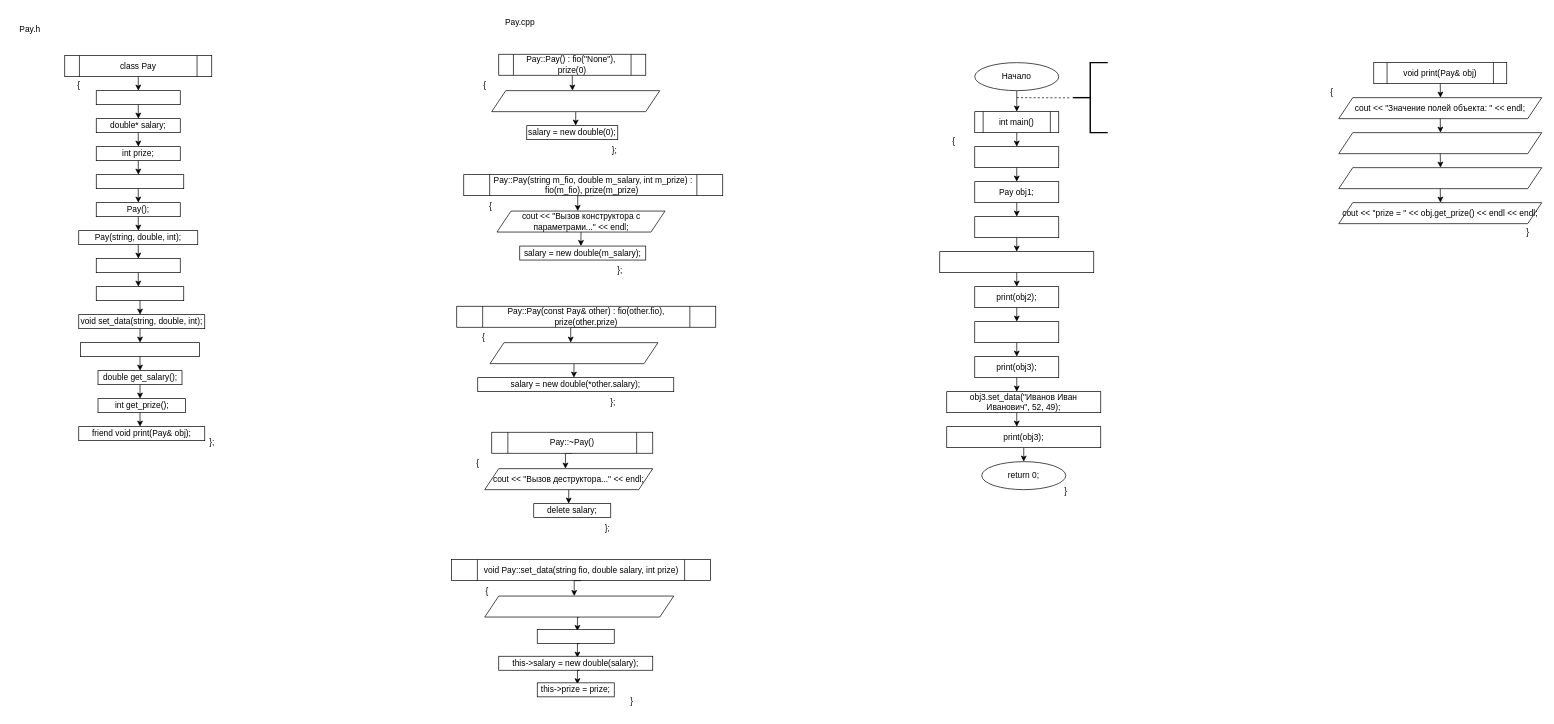
The diagram is 1554 pixels wide and 724 high, and some of its shapes have lost their labels. The box of each missing label's shape, as (x1, y1, x2, y2) in pixels:
#include "Pay.h" using namespace std;: (1072, 62, 1108, 133)
cout << "fio = " << obj.get_fio() << endl;: (1338, 132, 1542, 154)
cout << "salary = " << obj.get_salary() << endl;: (1338, 167, 1542, 189)
cout << "Вызов конструктора без параметров..." << endl;: (491, 90, 660, 112)
cout << "Вызов конструктора копирования..." << endl;: (489, 342, 658, 364)
cout << "Вызов метода set_data..." << endl;: (484, 595, 674, 617)
Pay obj2("Молочко Артём Анатольевич", 100, 10);: (939, 251, 1094, 273)
Pay obj3(obj2);: (974, 321, 1059, 343)
Pay(const Pay&);: (96, 258, 180, 273)
print(obj1);: (974, 216, 1059, 238)
public:: (96, 174, 184, 189)
setlocale(LC_ALL, "Russian");: (974, 146, 1059, 168)
string fio;: (96, 90, 180, 105)
string get_fio();: (80, 342, 200, 357)
this->fio = fio;: (537, 629, 614, 644)
~Pay();: (96, 286, 184, 301)
